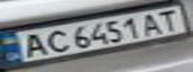1: (121, 15, 145, 38)
4: (87, 20, 112, 46)
5: (103, 18, 127, 43)
6: (69, 22, 93, 50)
A: (15, 30, 51, 59), (136, 10, 166, 35)
C: (39, 27, 72, 54)
T: (154, 7, 184, 32)
